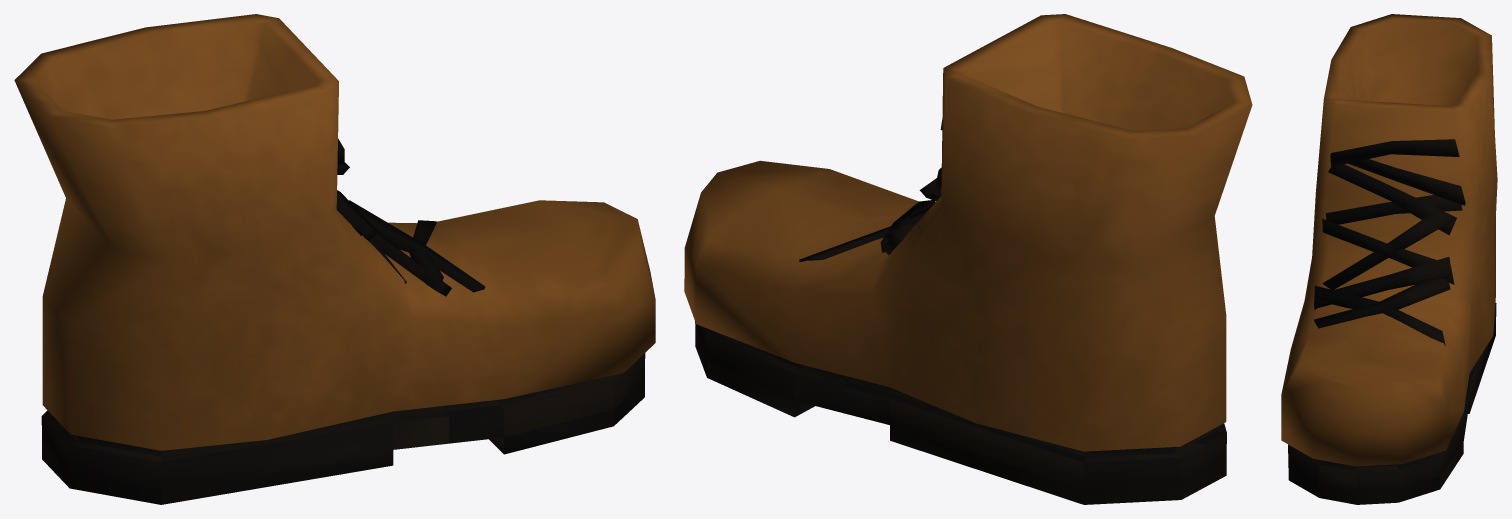
The model's file is Botas.fbx.
The picture shows the model from 3 angles, left to right: view 1: azimuth 30°, elevation 25°; view 2: azimuth 150°, elevation 25°; view 3: azimuth 270°, elevation 25°; orthographic projection. The views are drawn at different scales.
Parts seen in each view (by area): view 1: Botas; view 2: Botas; view 3: Botas.
Part boxes in pixels (x1,y1,x2,y2): Botas: (14, 14, 655, 504); Botas: (684, 14, 1252, 504); Botas: (1281, 14, 1497, 504).
Bounding box in the file's own units: 147 × 93.39 × 63.4.
